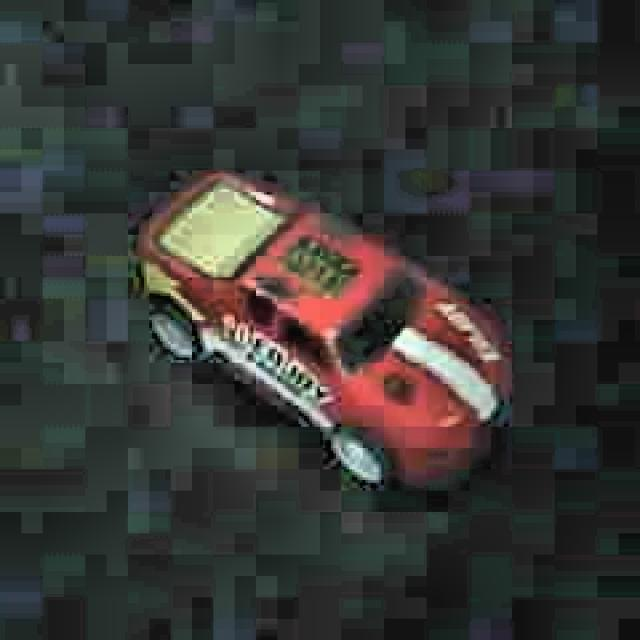car: (135, 161, 517, 494)
